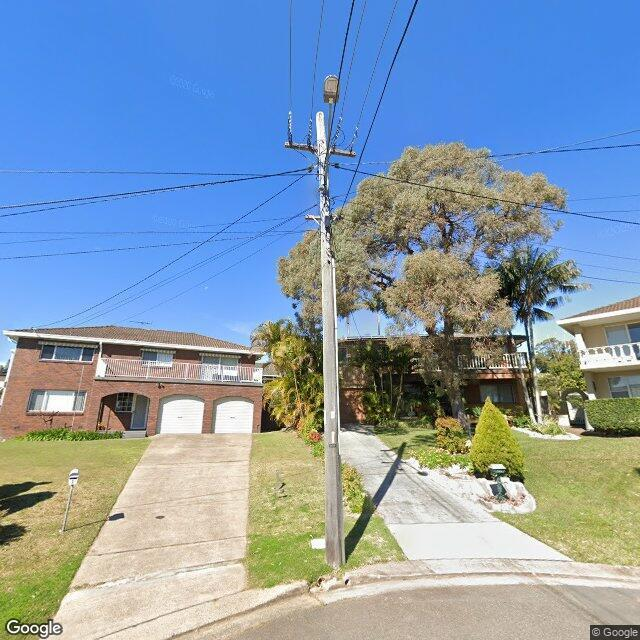crossarm: (284, 141, 358, 158), (304, 212, 347, 223)
streetlight: (324, 76, 341, 182)
timber-pole: (314, 110, 345, 566)
